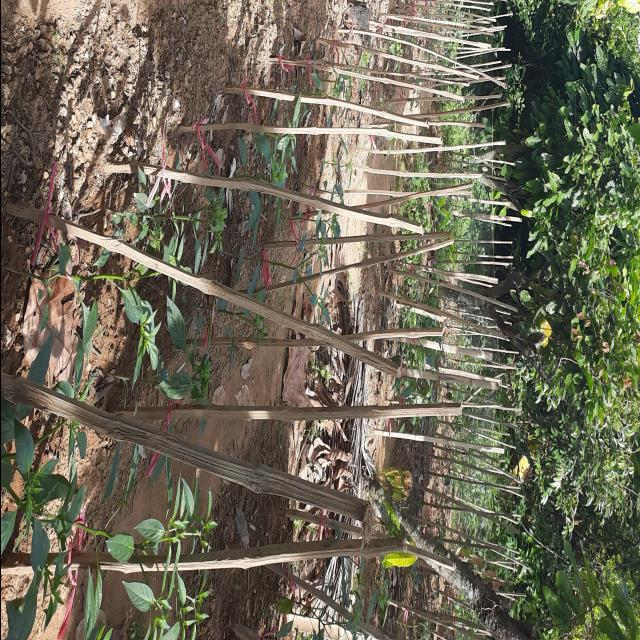sehat: (7, 404, 34, 472), (118, 572, 155, 620), (164, 292, 184, 352), (105, 529, 137, 565), (134, 511, 163, 544)
